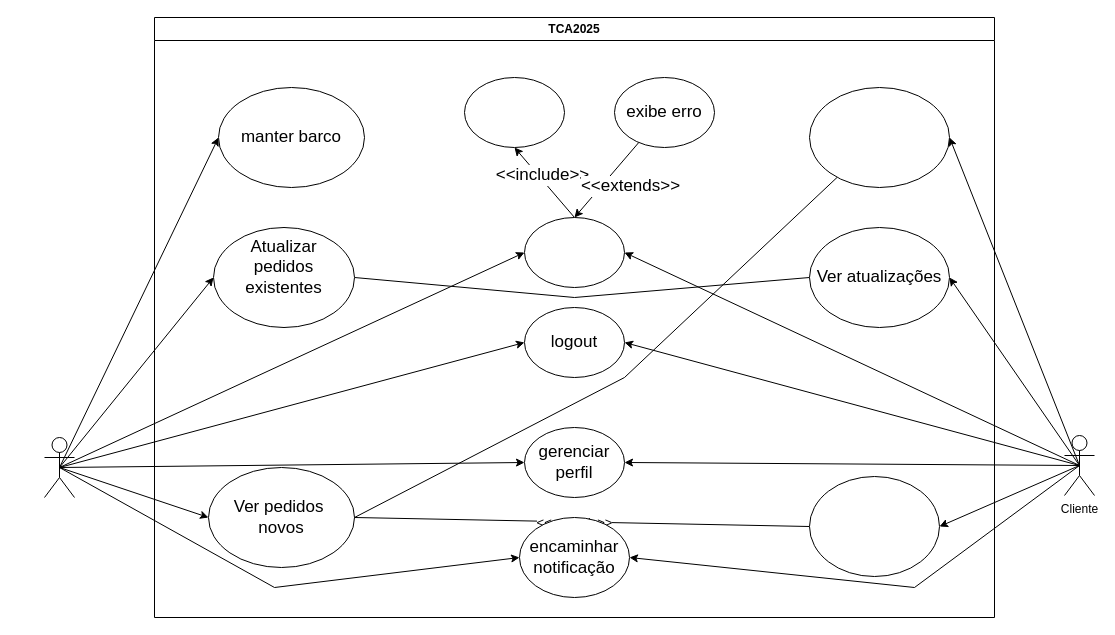
Image size: 1115x635. Some labels were removed from this diagram. The box of each missing label's shape, as (x1, y1, x2, y2) in pixels:
Adm/carpinteiro: (44, 436, 74, 498)
cancelar pedido: (808, 476, 940, 576)
Fazer login: (524, 216, 624, 288)
fazer pedido: (808, 86, 950, 188)
verificar dados: (464, 76, 564, 148)
